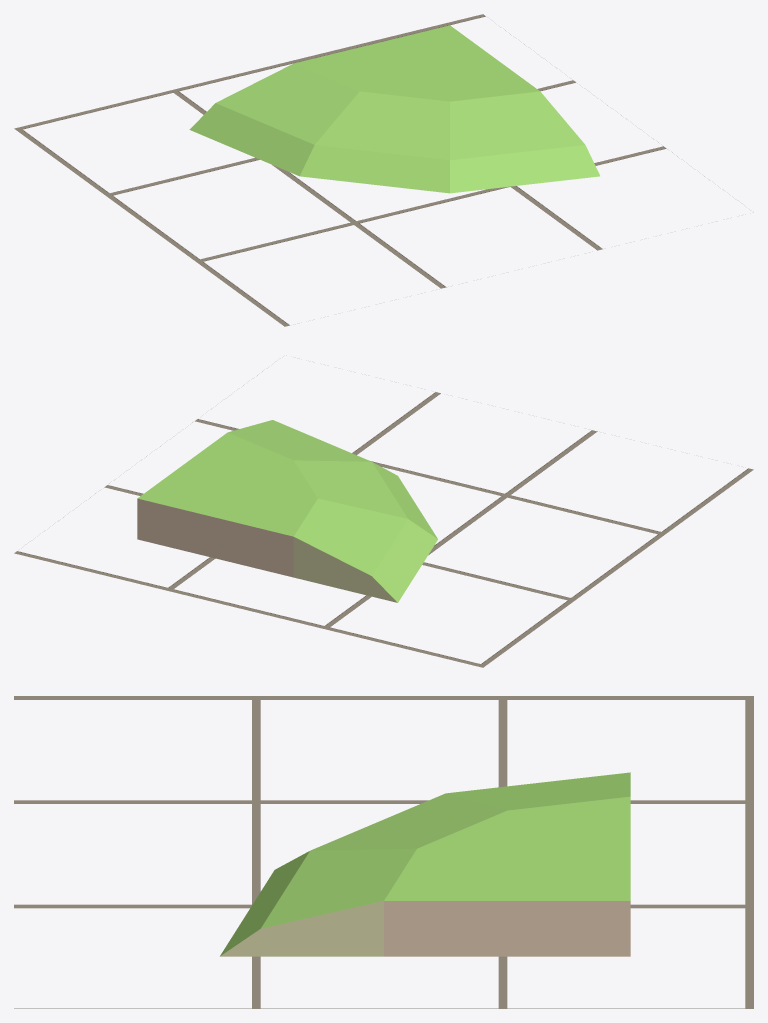
The model's file is Grass_Carpet_Curve_Outer_2x2.glb.
3 renders of one model, top to bottom at view 1: azimuth 30°, elevation 25°; view 2: azimuth 150°, elevation 25°; view 3: azimuth 270°, elevation 25°, orthographic. The views are drawn at different scales.
Visible parts, largest first — view 1: Grass_Carpet_Curve_Outer_2x2, Floor; view 2: Grass_Carpet_Curve_Outer_2x2, Floor; view 3: Grass_Carpet_Curve_Outer_2x2, Floor.
Boxes of the visible parts, x1,y1,x2,y2 form: Grass_Carpet_Curve_Outer_2x2: (189,25,599,193); Floor: (14,14,704,326); Grass_Carpet_Curve_Outer_2x2: (137,420,437,602); Floor: (14,371,753,667); Grass_Carpet_Curve_Outer_2x2: (220,772,630,956); Floor: (14,696,753,1008).
Bounding box in the file's own units: 300 × 25 × 300.
Materials: 5 (1 with a texture image).
